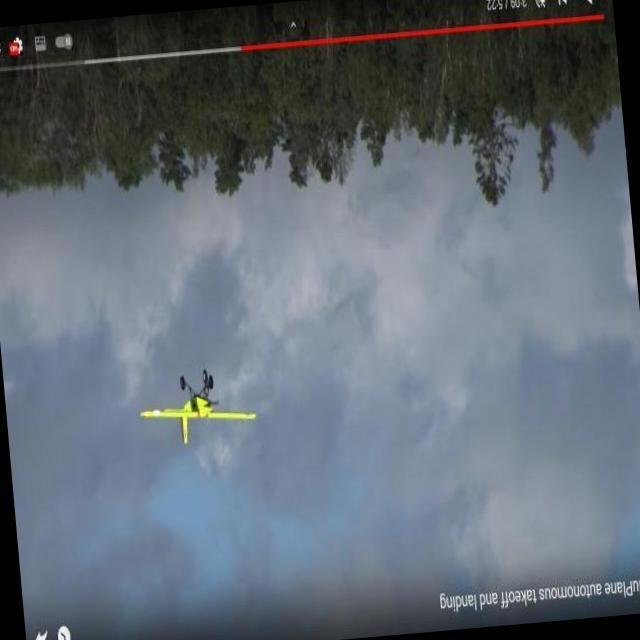iha: (122, 391, 263, 426)
